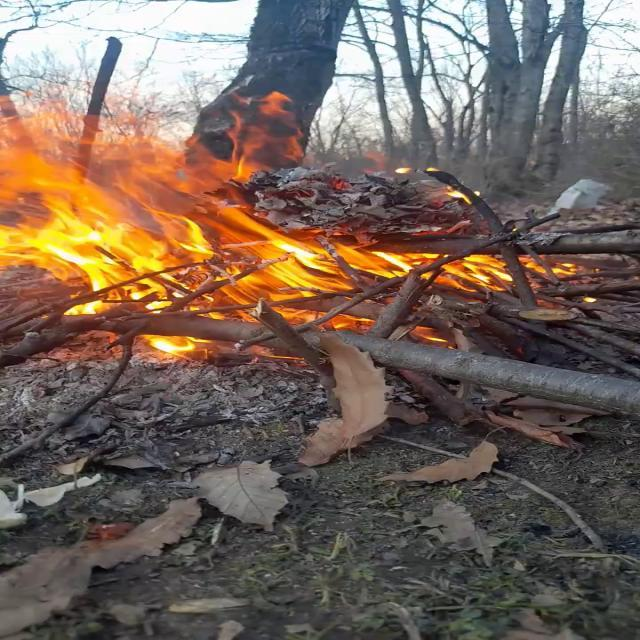Fire: (0, 84, 558, 358)
